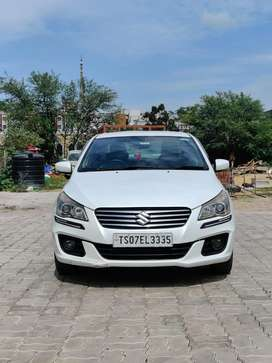TS07EL3335: (112, 232, 172, 247)
